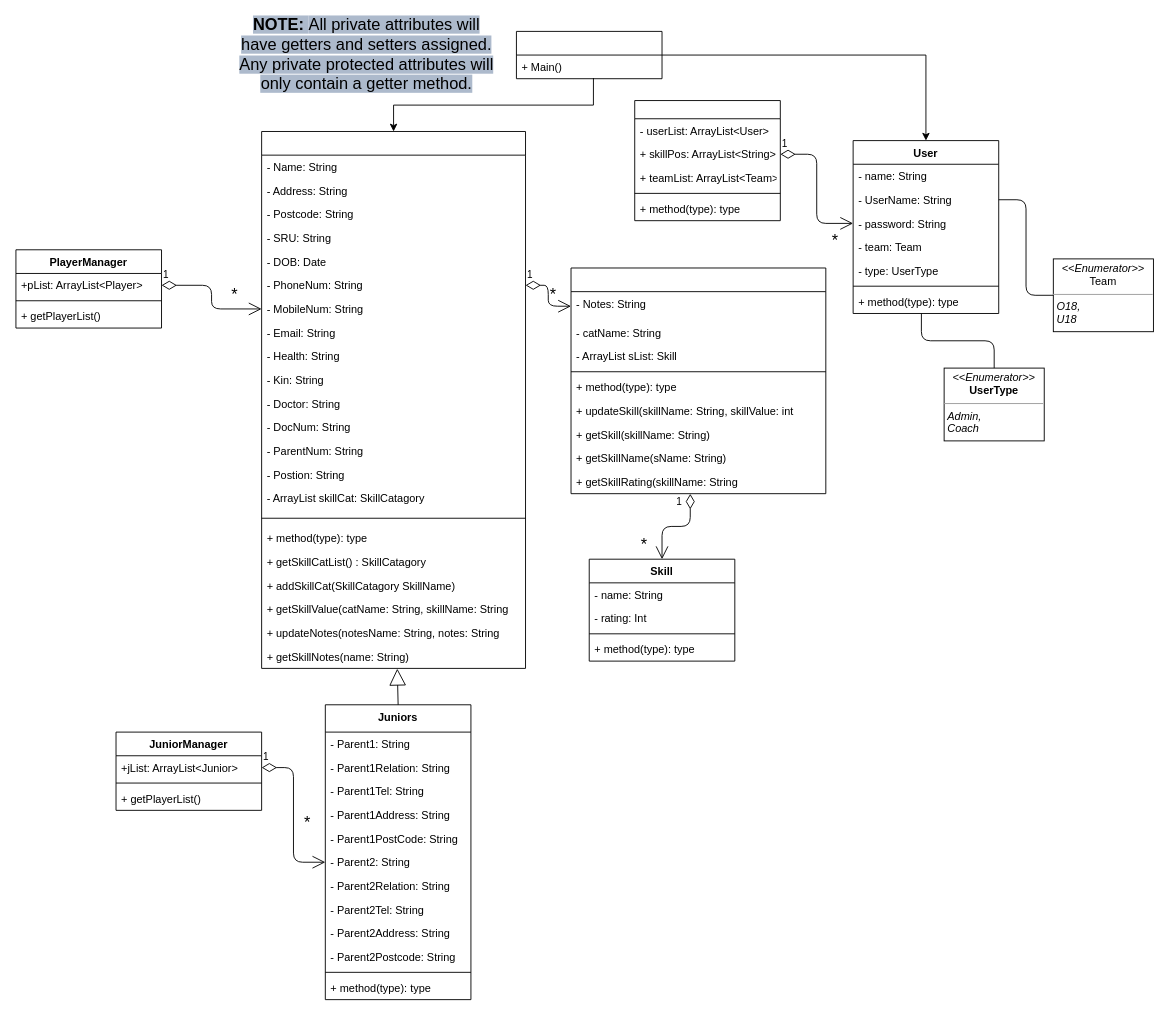
This 1169x1017 diagram has some shape labels left out. The box of each missing label's shape, as (x1, y1, x2, y2) in pixels:
Player: (261, 131, 526, 668)
SimplyRugby: (516, 30, 662, 79)
SkillCatagory: (570, 267, 826, 494)
UserManager: (634, 100, 780, 221)
